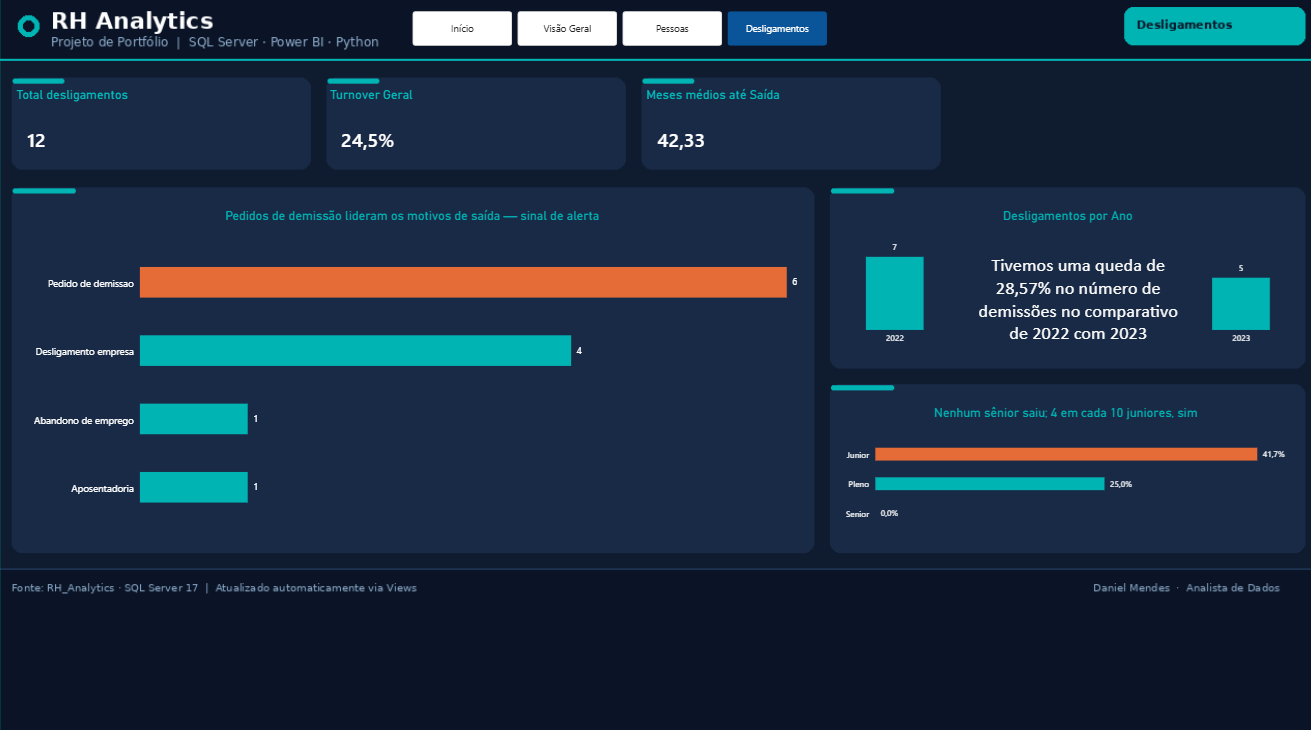

Layout of this report page (visuals, bound fields, positions):
{"tool":"powerbi","page":{"name":"Desligamentos","canvas":[1920,1080],"ordinal":3},"visuals":[{"type":"pageNavigator","box":[605.1,22.6,600,50],"z":0},{"type":"cardVisual","title":"Total desligamentos","fields":{"Data":["CountNonNull(vw_Desligamentos.Funcionario)"]},"box":[30.9,133.8,419.9,111.1],"z":1000},{"type":"cardVisual","title":"Turnover Médio (%)","fields":{"Data":["Avg(vw_Turnover_Departamento.Turnover_Pct)"]},"box":[485.8,133.8,419.9,111.1],"z":2000},{"type":"cardVisual","title":"Meses médios até Saída","fields":{"Data":["Avg(vw_Desligamentos.Tempo_Casa_Meses)"]},"box":[942.7,133.8,419.9,111.1],"z":3000},{"type":"textbox","box":[30.9,329.3,20.6,45.3],"z":4000},{"type":"textbox","box":[574.3,185.2,63.8,59.7],"z":5000},{"type":"clusteredColumnChart","title":"Desligamentos por Ano","fields":{"Category":["vw_Desligamentos.Ano_Saida"],"Y":["CountNonNull(vw_Desligamentos.Funcionario)"]},"box":[1220.6,294.3,666.9,230.5],"z":6000},{"type":"clusteredBarChart","title":"Os Pedidos de demissão lideram os motivo de saída da empresa - sinal de alerta","fields":{"Category":["vw_Desligamentos.Motivo_Saida"],"Y":["CountNonNull(vw_Desligamentos.Funcionario)"]},"box":[30.9,294.3,1146.5,500.2],"z":7000},{"type":"textbox","box":[1362.6,94.7,524.9,234.6],"z":8000},{"type":"textbox","box":[1416.1,374.6,302.6,135.8],"z":9000},{"type":"clusteredBarChart","title":"Marketing e Recursos humanos são os setores com menos demissões registradas entre 2022 e 2023","fields":{"Category":["vw_Desligamentos.Departamento"],"Y":["CountNonNull(vw_Desligamentos.Funcionario)"]},"box":[1212.4,578.4,675.1,216.1],"z":10000}]}

Visuals, with their boxes in screenshot pixels (x1, y1, x2, y2), scaled from the page's 1920x1080 canvas onto the 1311x730 screenshot:
pageNavigator: [x1=413, y1=15, x2=823, y2=49]
"Total desligamentos" cardVisual: [x1=21, y1=90, x2=308, y2=166]
"Turnover Médio (%)" cardVisual: [x1=332, y1=90, x2=618, y2=166]
"Meses médios até Saída" cardVisual: [x1=644, y1=90, x2=930, y2=166]
textbox: [x1=21, y1=223, x2=35, y2=253]
textbox: [x1=392, y1=125, x2=436, y2=166]
"Desligamentos por Ano" clusteredColumnChart: [x1=833, y1=199, x2=1289, y2=355]
"Os Pedidos de demissão lideram os motivo de saída da empresa - sinal de alerta" clusteredBarChart: [x1=21, y1=199, x2=804, y2=537]
textbox: [x1=930, y1=64, x2=1289, y2=223]
textbox: [x1=967, y1=253, x2=1174, y2=345]
"Marketing e Recursos humanos são os setores com menos demissões registradas entre 2022 e 2023" clusteredBarChart: [x1=828, y1=391, x2=1289, y2=537]
